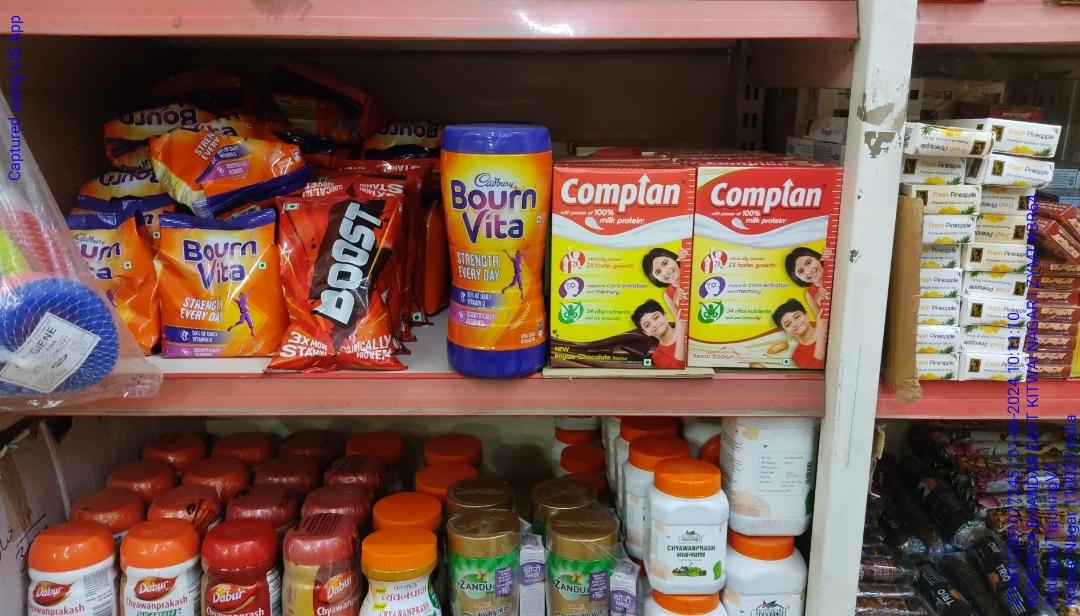BOURN_VITA_1_KG_JAR: (441, 128, 544, 380)
BOURN_VITA_500_G_POUCH: (162, 208, 282, 361)
COMPLAN_CHOCOLATE_500_GMS_PACK: (551, 171, 690, 371)
COMPLAN_KESAR_BADAM_500_GMS_PACK: (697, 164, 829, 371)
